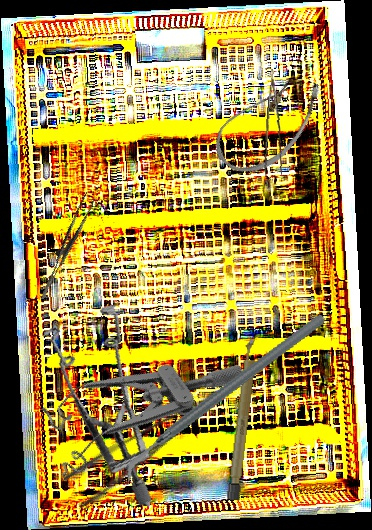Cannula: (205, 54, 333, 190)
Chopper: (94, 311, 353, 487)
Dressing Forceps: (60, 385, 241, 512)
Scalpel Handle: (226, 336, 260, 501)
Speculum: (23, 302, 248, 495), (11, 290, 192, 508)
Tissue Forceps: (24, 191, 106, 300), (261, 69, 291, 182)
